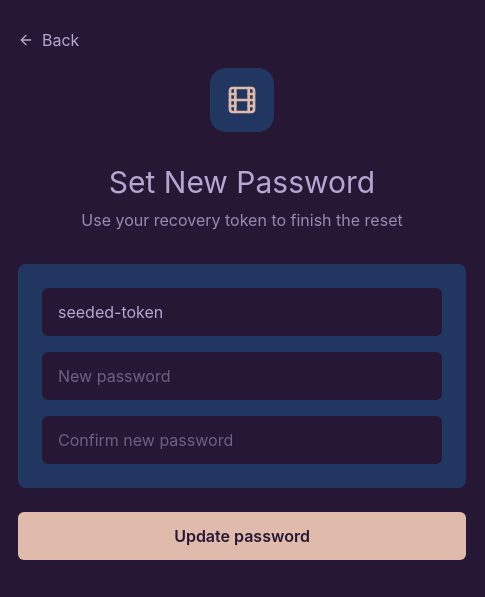
ResetPasswordPage › prefills the token from the URL and resets the password successfully
Expected: the field with placeholder "Reset token" holds "seeded-token", [42,288,442,336]
In the password field with placeholder "New password": (242, 376) [42,352,442,400], type "password123"
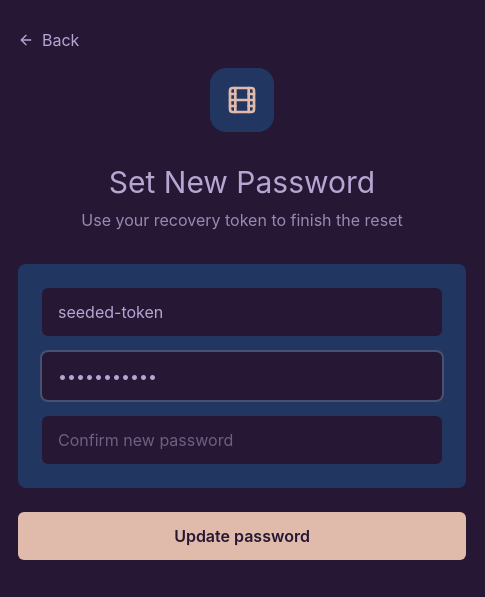
In the password field with placeholder "Confirm new password": (242, 440) [42,416,442,464], type "password123"
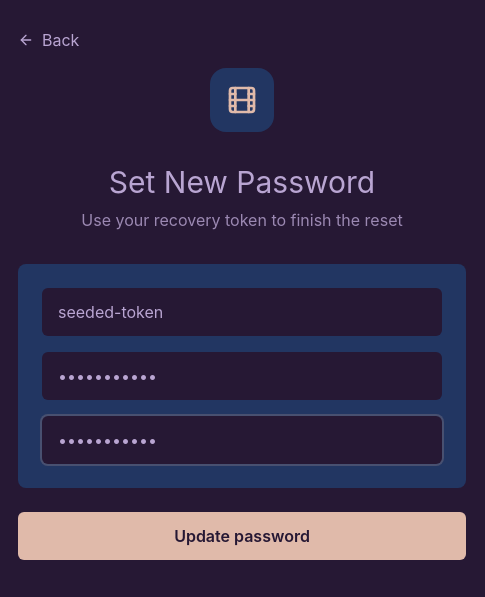
Click the button "Update password": click(242, 536) [18,512,466,560]
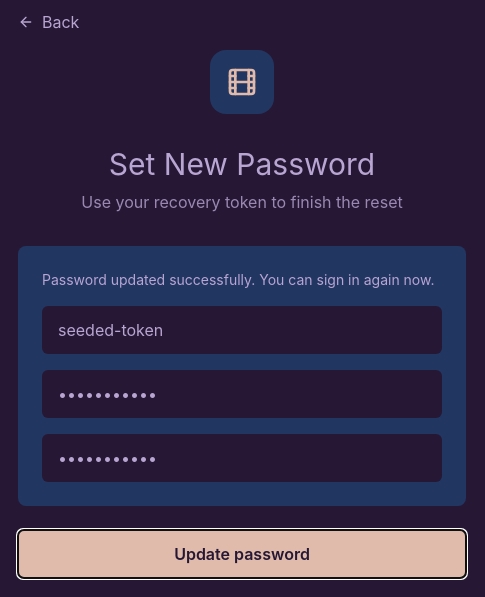
Result: the text "Password updated successfully. You can sign in again now." is shown at [42,270,442,290]
